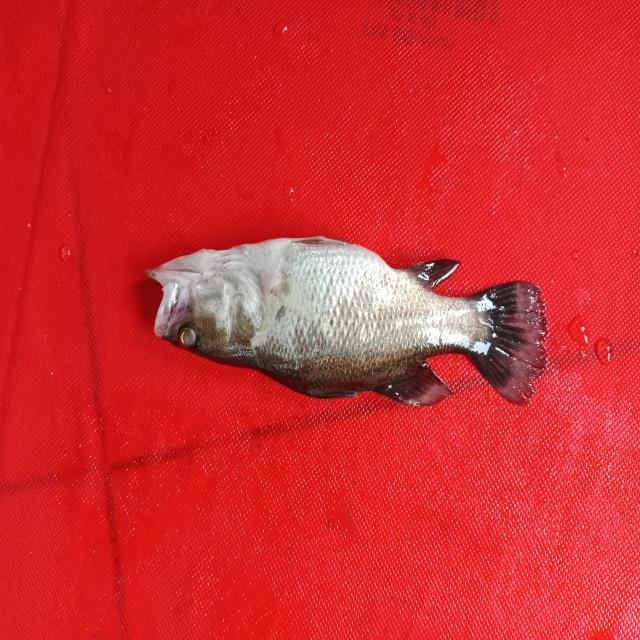ikan: (114, 187, 553, 424)
